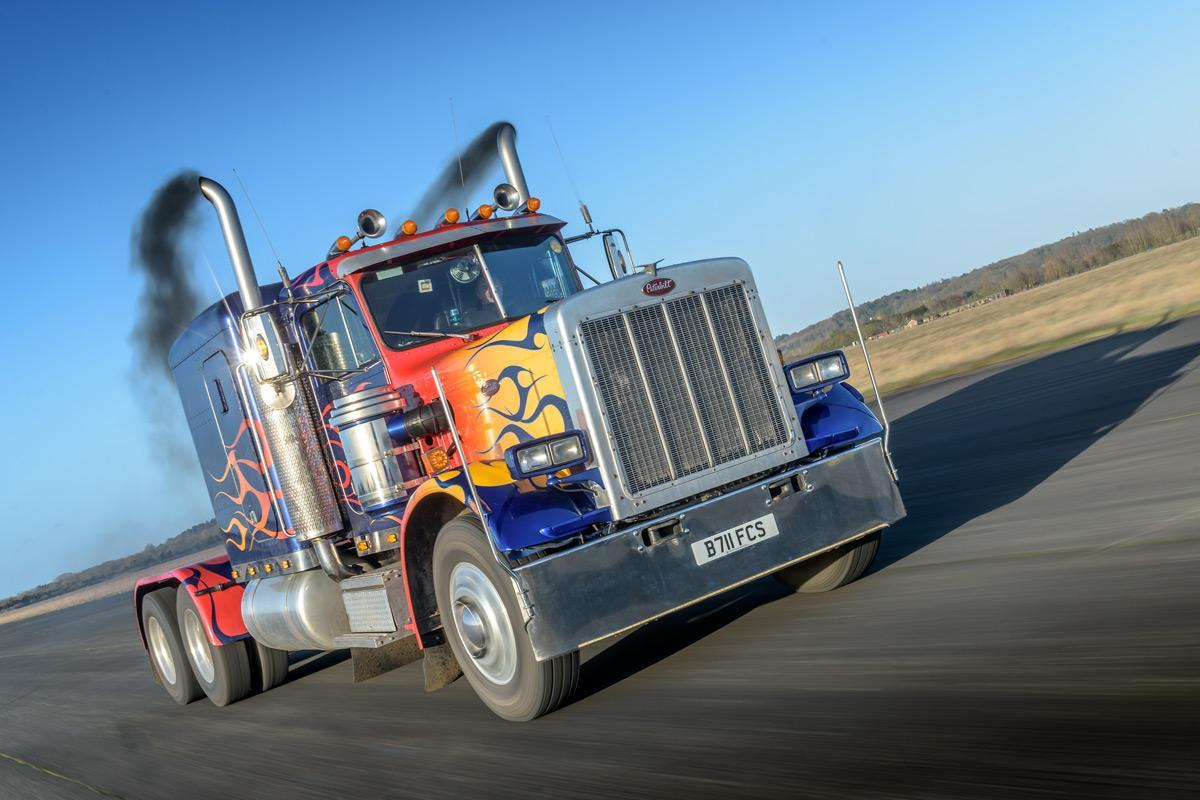truck: (48, 138, 962, 722)
